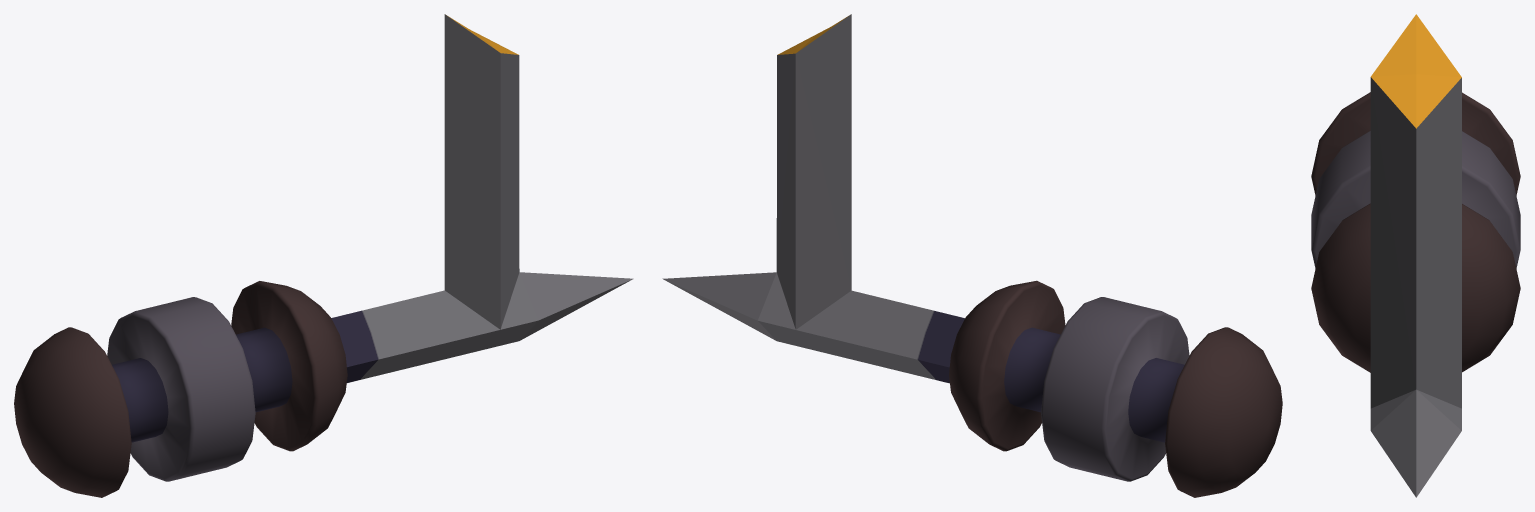
The model's file is Chariot03_tiechui_sunhui02.FBX.
3 renders of one model, left to right at view 1: azimuth 30°, elevation 25°; view 2: azimuth 150°, elevation 25°; view 3: azimuth 270°, elevation 25°, orthographic. The views are drawn at different scales.
Visible parts, largest first — view 1: Chariot03_tiechui_sunhui02; view 2: Chariot03_tiechui_sunhui02; view 3: Chariot03_tiechui_sunhui02.
Boxes of the visible parts, left/top/right/bottom form: Chariot03_tiechui_sunhui02: left=14, top=14, right=633, bottom=497; Chariot03_tiechui_sunhui02: left=662, top=14, right=1282, bottom=497; Chariot03_tiechui_sunhui02: left=1311, top=14, right=1520, bottom=497.
Size of the model in its own units: 1.61 by 0.989 by 0.4012.
